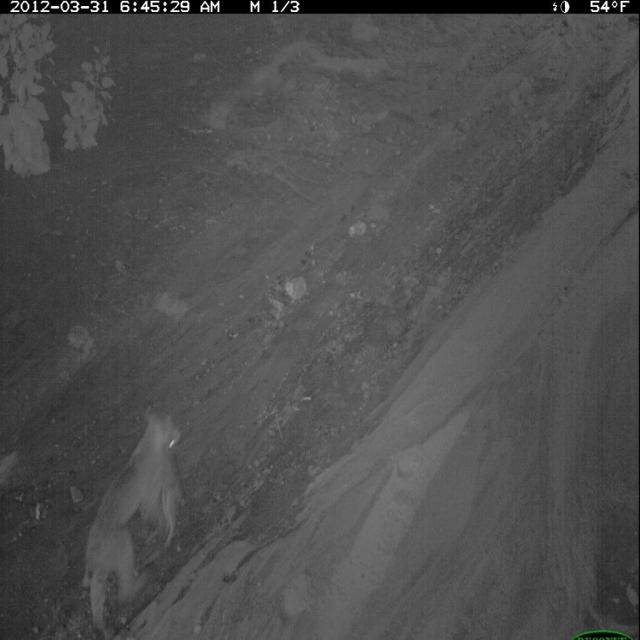bobcat: (79, 397, 188, 640)
rabbit: (156, 447, 188, 558)
